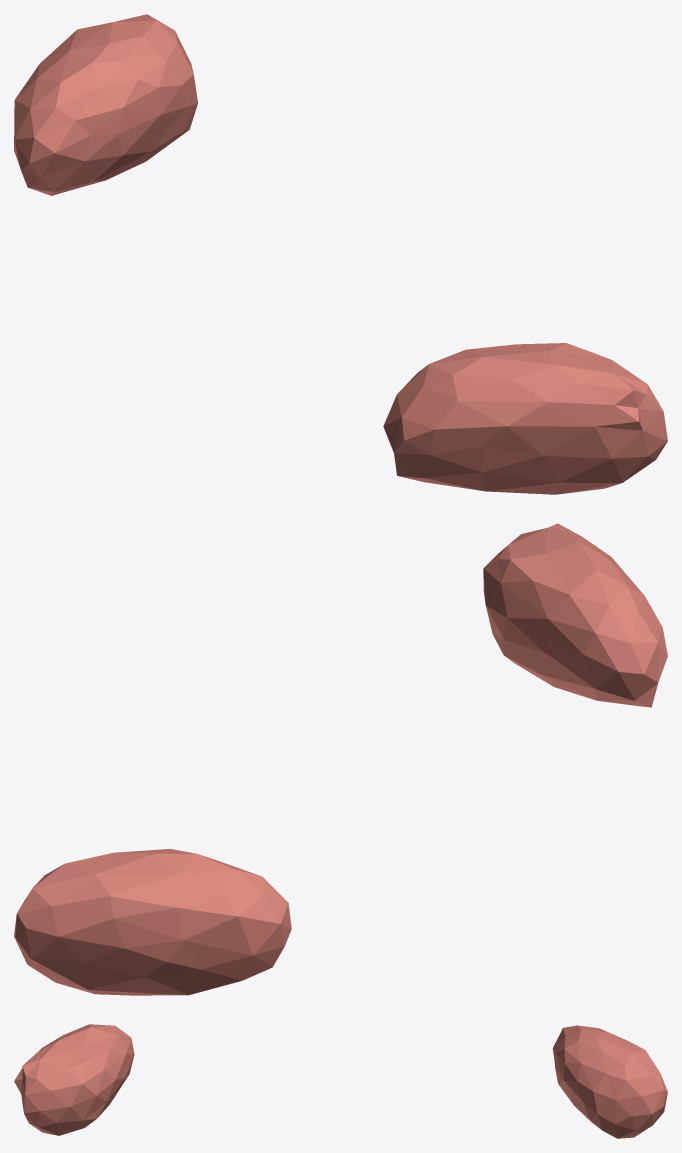
3 renders of one model, top to bottom at view 1: azimuth 30°, elevation 25°; view 2: azimuth 150°, elevation 25°; view 3: azimuth 270°, elevation 25°, orthographic. The views are drawn at different scales.
Visible parts, largest first — view 1: 689.obj; view 2: 689.obj; view 3: 689.obj.
Boxes of the visible parts, <box> form: 689.obj: <box>14,14,667,494</box>; 689.obj: <box>14,523,667,995</box>; 689.obj: <box>14,1024,667,1138</box>.
Bounding box in the file's own units: 441 × 265 × 1875.
